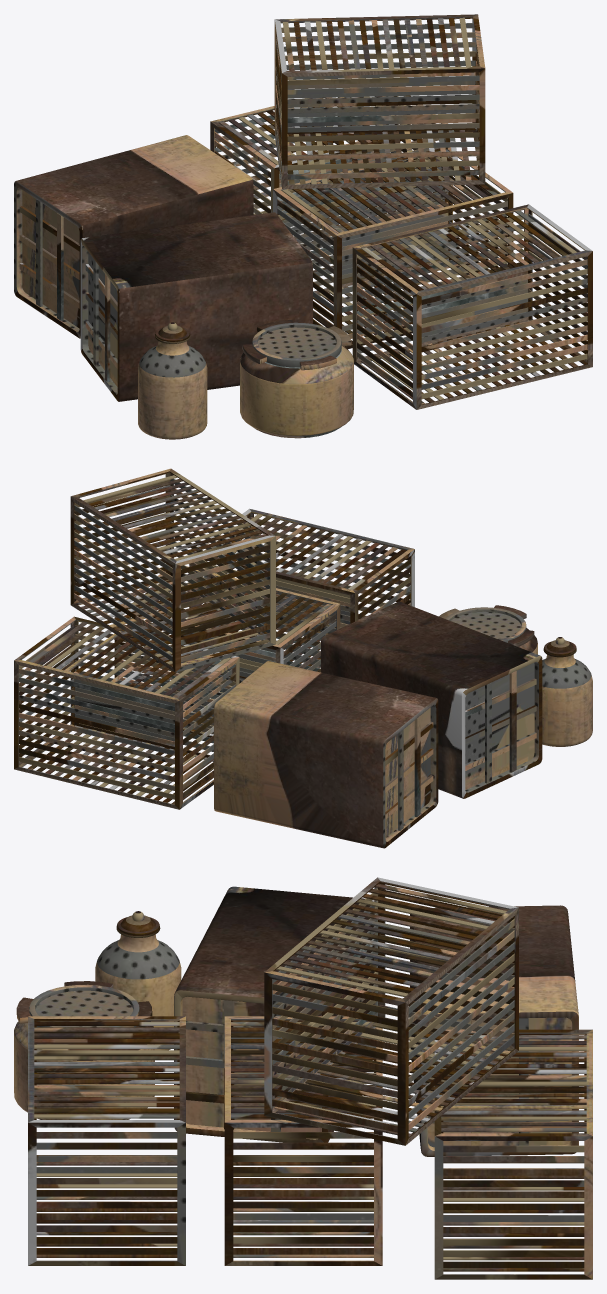
Rendered from xi_dsp_crates.gltf.
3 views of the same model, one above another, from view 1: azimuth 30°, elevation 25°; view 2: azimuth 150°, elevation 25°; view 3: azimuth 270°, elevation 25° (orthographic). The views are drawn at different scales.
Parts seen in each view (by area): view 1: xi_dsp_crates; view 2: xi_dsp_crates; view 3: xi_dsp_crates.
Part boxes in pixels (x1,y1,x2,y2): xi_dsp_crates: [14, 14, 592, 439]; xi_dsp_crates: [14, 468, 592, 848]; xi_dsp_crates: [14, 877, 592, 1279].
Bounding box in the file's own units: 2.78 × 1.39 × 2.54.
Materials: 1 (1 with a texture image).
